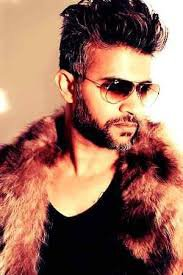noMask: (50, 4, 165, 148)
